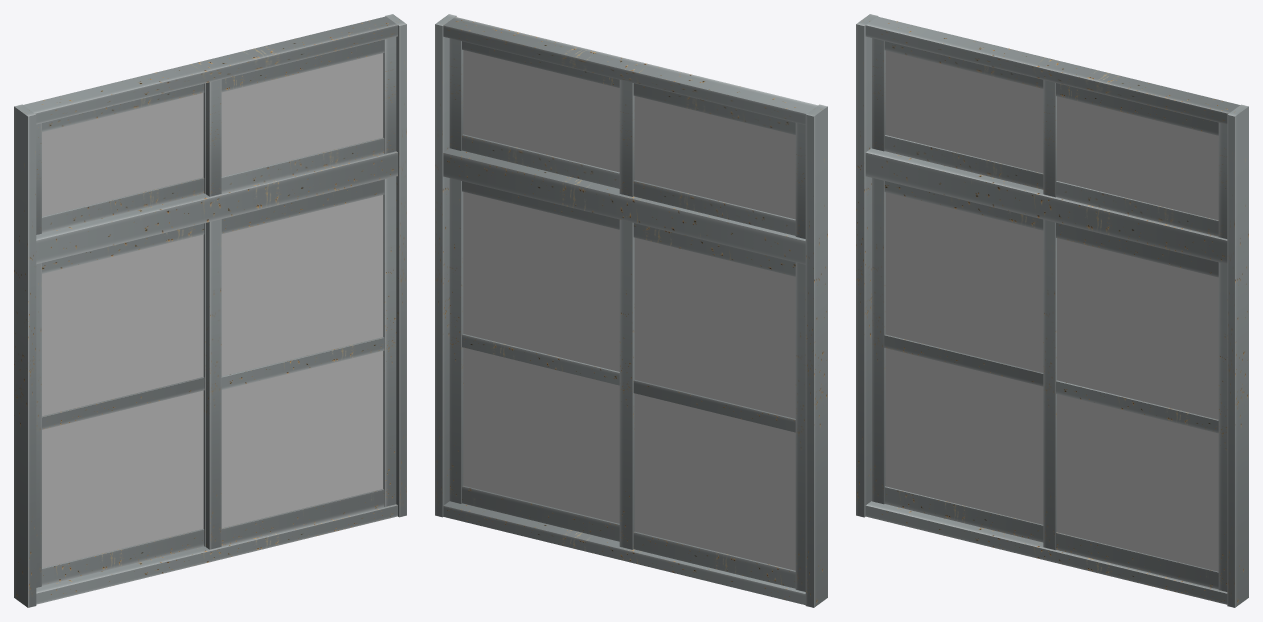
The model's file is bil_window_b3_1.fbx.
The picture shows the model from 3 angles, left to right: view 1: azimuth 30°, elevation 25°; view 2: azimuth 150°, elevation 25°; view 3: azimuth 330°, elevation 25°; orthographic projection.
Parts seen in each view (by area): view 1: bil_window_b3_1; view 2: bil_window_b3_1; view 3: bil_window_b3_1.
Part boxes in pixels (bbox=[...]): bil_window_b3_1: bbox=[14, 14, 406, 607]; bil_window_b3_1: bbox=[435, 14, 827, 607]; bil_window_b3_1: bbox=[856, 14, 1248, 607].
Size of the model in its own units: 183 by 227 by 11.68.
